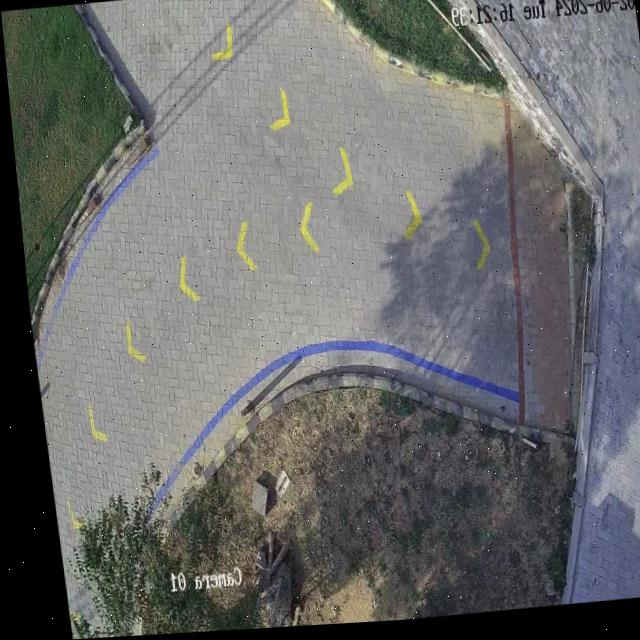No Car: (1, 0, 640, 639)
